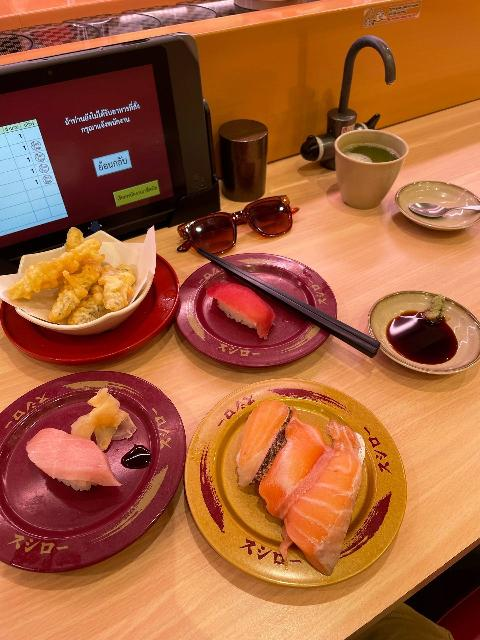jangold: (183, 402, 424, 571)
janred: (11, 369, 176, 556), (182, 249, 343, 370), (0, 239, 167, 355)
